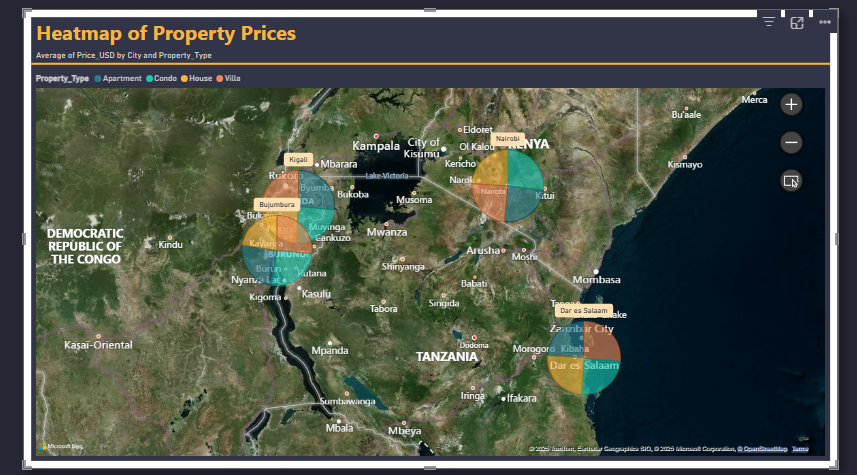

This screenshot's page, from the dashboard's own definition file:
{"tool":"powerbi","page":{"name":"Heatmap of Property Prices","canvas":[1280,720],"ordinal":3},"visuals":[{"type":"map","title":"Heatmap of Property Prices","fields":{"Category":["Sheet1.City"],"Size":["Avg(Sheet1.Price_USD)"],"Series":["Sheet1.Property_Type"]},"box":[41.1,22,1197.6,675.9],"z":0}]}

Visuals, with their boxes in screenshot pixels (x1, y1, x2, y2):
"Heatmap of Property Prices" map: box=[23, 8, 832, 464]
